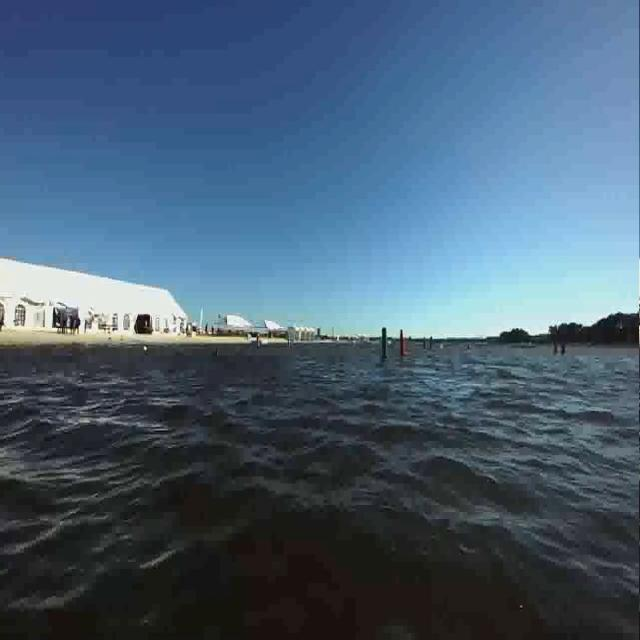green-column-buoy: (378, 327, 391, 361)
red-column-buoy: (398, 330, 407, 358)
